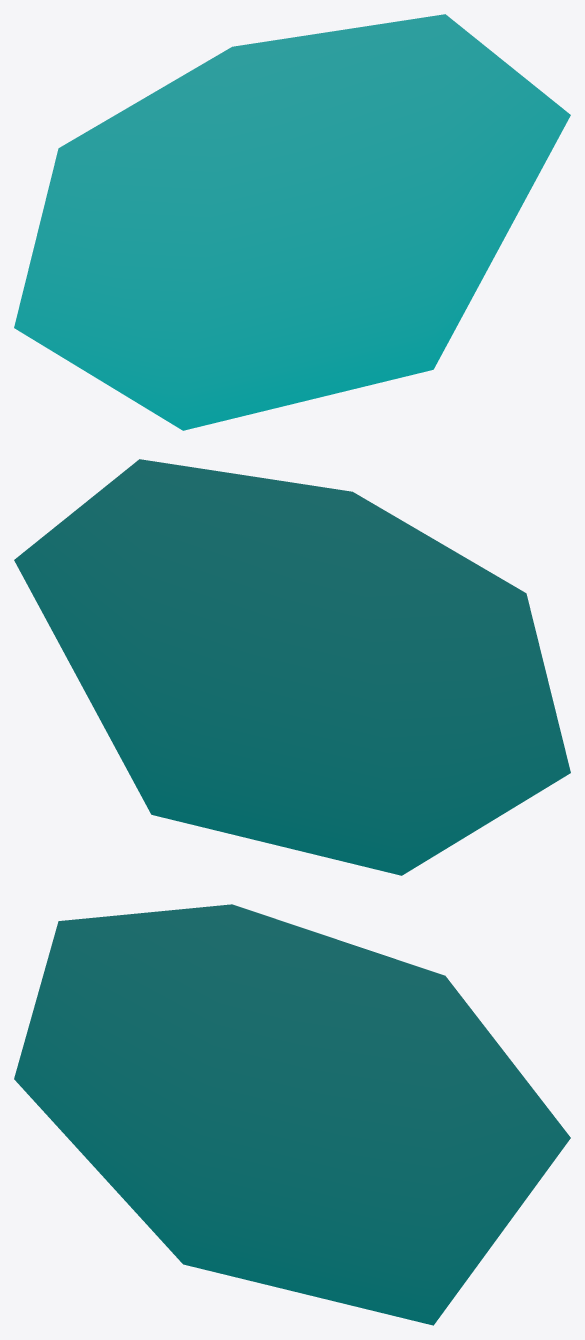
Rendered from Common_Hemp_Nettle_xh1kdfbqx_Low_xh1kdfbqx_VarE_LOD3.fbx.
3 views of the same model, one above another, from view 1: azimuth 30°, elevation 25°; view 2: azimuth 150°, elevation 25°; view 3: azimuth 330°, elevation 25° (orthographic).
Visible parts, largest first — view 1: _8bcy_VarE_LOD5; view 2: _8bcy_VarE_LOD5; view 3: _8bcy_VarE_LOD5.
Part boxes in pixels (box(x1,y1,x2,y2)): _8bcy_VarE_LOD5: box(14, 14, 570, 430); _8bcy_VarE_LOD5: box(14, 459, 570, 875); _8bcy_VarE_LOD5: box(14, 904, 570, 1325).
Size of the model in its own units: 73.48 by 46.92 by 2.05e-06.
